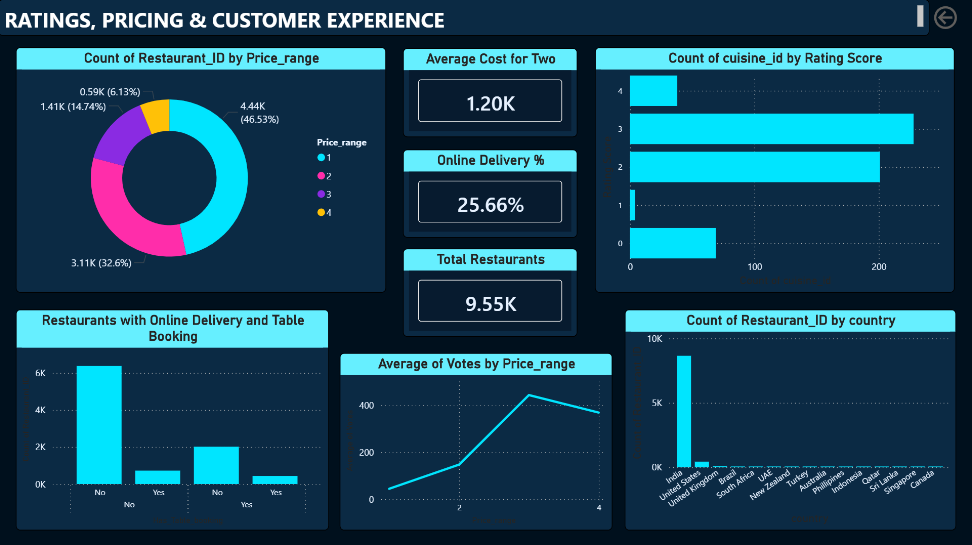

The dashboard page shown, as its layout file describes it:
{"tool":"powerbi","page":{"name":"Page 3","canvas":[1280,720],"ordinal":2},"visuals":[{"type":"barChart","fields":{"Y":["CountNonNull(zomato_analysis restaurant_cuisine.cuisine_id)"],"Category":["zomato_analysis restaurant.Rating Score"]},"box":[782.9,62.7,472.3,322.2],"z":0},{"type":"actionButton","box":[1223.1,4.4,49.6,39.4],"z":1000},{"type":"cardVisual","title":"Total Restaurants","fields":{"Data":["Count(zomato_analysis restaurant.Restaurant_ID)"]},"box":[530.7,326.6,228.9,116.6],"z":2000},{"type":"cardVisual","title":"Average Cost for Two","fields":{"Data":["zomato_analysis restaurant.Avg cost for two"]},"box":[530.7,64.1,228.9,116.6],"z":3000},{"type":"cardVisual","title":"Online Delivery %","fields":{"Data":["zomato_analysis restaurant.Online Delivery %"]},"box":[530.7,196.8,228.9,116.6],"z":4000},{"type":"clusteredColumnChart","fields":{"Category":["zomato_analysis country.country"],"Y":["CountNonNull(zomato_analysis restaurant.Restaurant_ID)"]},"box":[822.2,406.7,434.4,290.1],"z":5000},{"type":"donutChart","fields":{"Y":["Count(zomato_analysis restaurant.Restaurant_ID)"],"Category":["zomato_analysis restaurant.Price_range"]},"box":[23.3,62.7,485.5,322.2],"z":6000},{"type":"lineChart","fields":{"Category":["zomato_analysis restaurant.Price_range"],"Y":["Avg(zomato_analysis restaurant.Votes)"]},"box":[447.6,463.6,358.6,233.3],"z":7000},{"type":"columnChart","title":"Restaurants with Online Delivery and Table Booking","fields":{"Category":["zomato_analysis restaurant.Has_Online_delivery","zomato_analysis restaurant.Has_Table_booking"],"Y":["CountNonNull(zomato_analysis restaurant.Restaurant_ID)"]},"box":[23.3,406.7,411.1,290.1],"z":8000},{"type":"textbox","box":[0,0,1221.7,48.1],"z":9000}]}

Visuals, with their boxes in screenshot pixels (x1, y1, x2, y2), scaled from the page's 1280x720 canvas onto the 972x545 screenshot:
barChart - CountNonNull(zomato_analysis restaurant_cuisine.cuisine_id) x zomato_analysis restaurant.Rating Score: x1=595, y1=47, x2=953, y2=291
actionButton: x1=929, y1=3, x2=966, y2=33
"Total Restaurants" cardVisual: x1=403, y1=247, x2=577, y2=335
"Average Cost for Two" cardVisual: x1=403, y1=49, x2=577, y2=137
"Online Delivery %" cardVisual: x1=403, y1=149, x2=577, y2=237
clusteredColumnChart - zomato_analysis country.country x CountNonNull(zomato_analysis restaurant.Restaurant_ID): x1=624, y1=308, x2=954, y2=527
donutChart - Count(zomato_analysis restaurant.Restaurant_ID) x zomato_analysis restaurant.Price_range: x1=18, y1=47, x2=386, y2=291
lineChart - zomato_analysis restaurant.Price_range x Avg(zomato_analysis restaurant.Votes): x1=340, y1=351, x2=612, y2=528
"Restaurants with Online Delivery and Table Booking" columnChart: x1=18, y1=308, x2=330, y2=527
textbox: x1=0, y1=0, x2=928, y2=36
